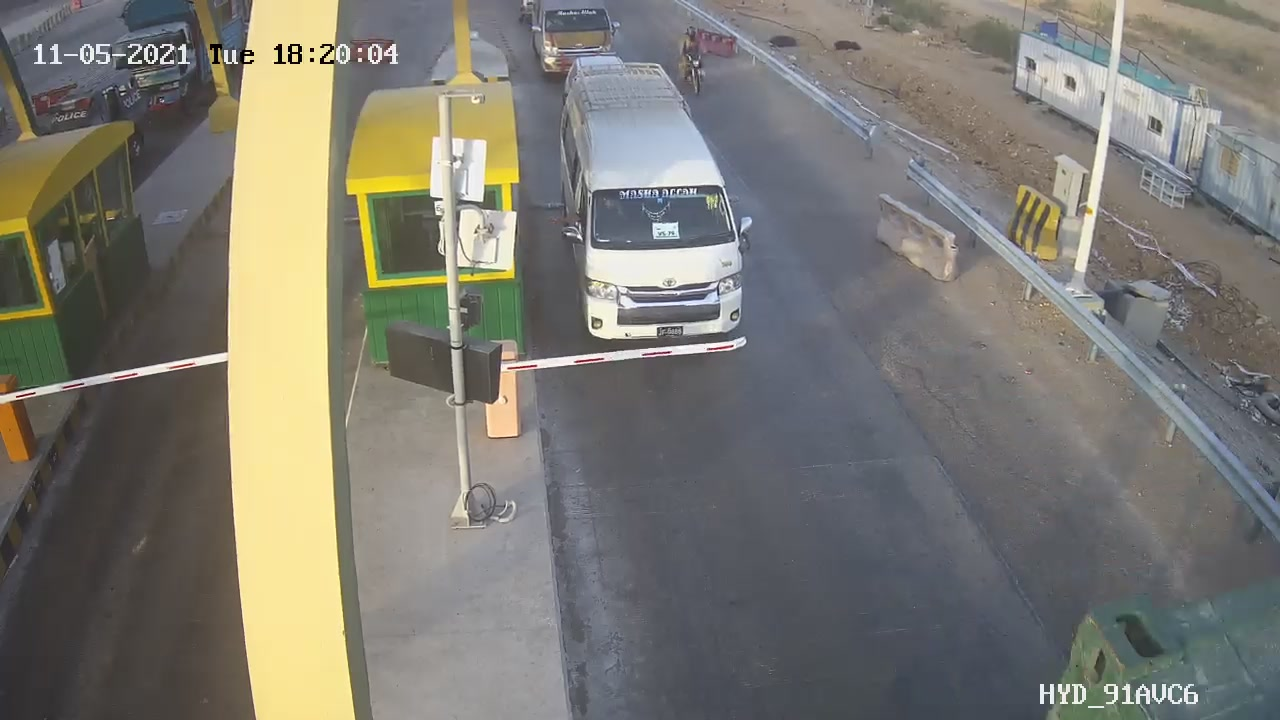F2: (549, 51, 761, 344)
